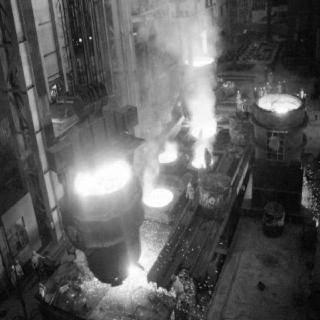Fire: (120, 247, 162, 291), (142, 184, 174, 210), (189, 150, 213, 172)
